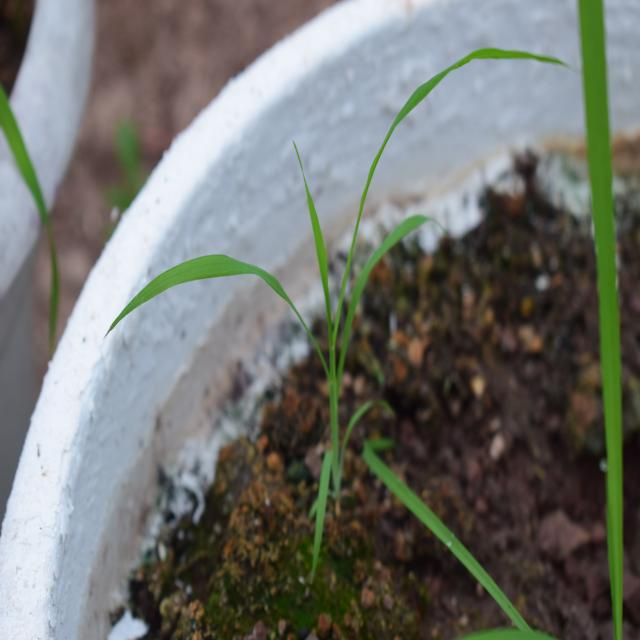barnyard_grass: (106, 26, 509, 475)
